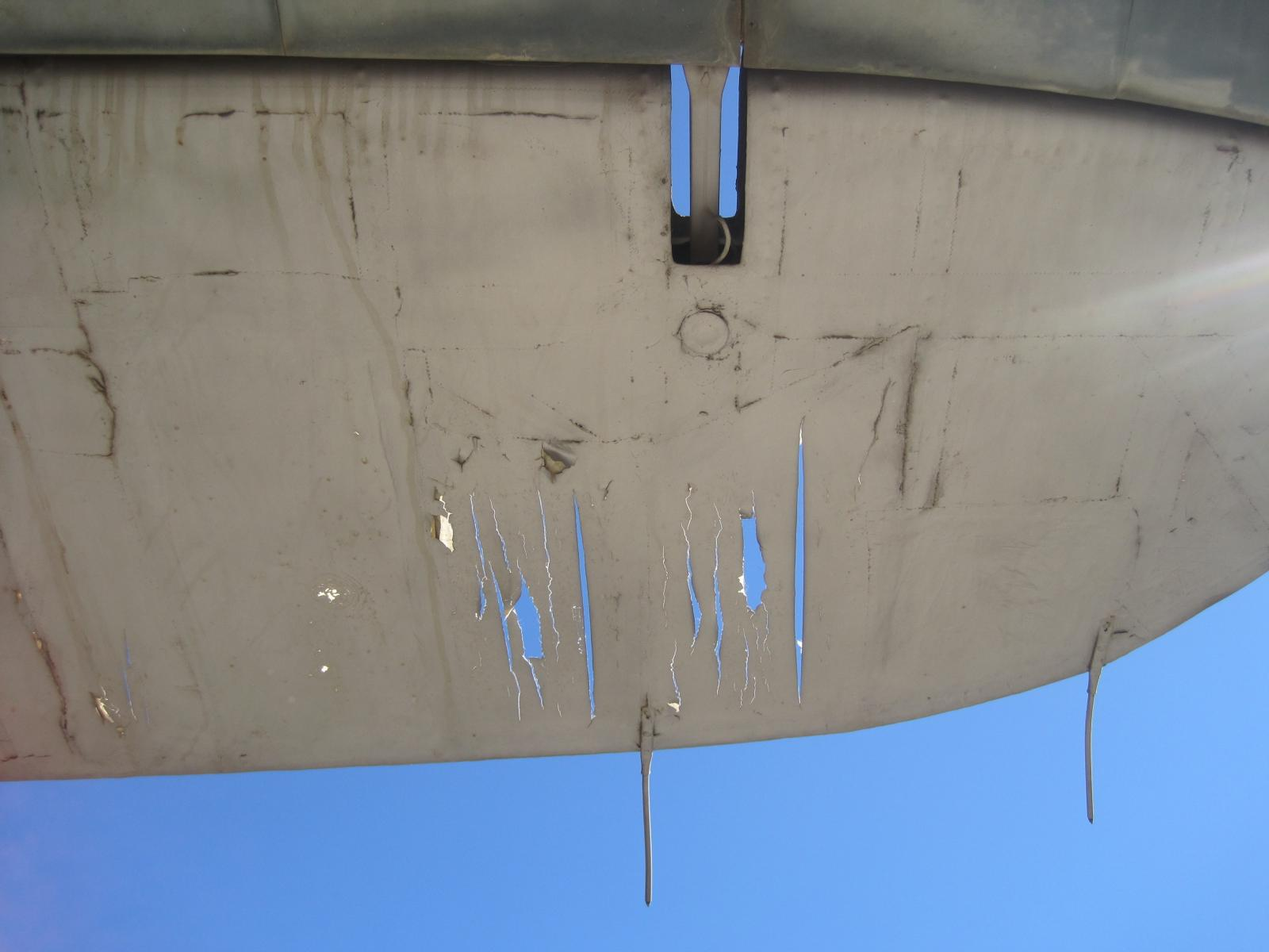Wing_damage: (574, 499, 595, 720), (537, 492, 559, 661), (795, 424, 805, 704), (513, 573, 544, 660), (492, 567, 515, 679), (742, 516, 766, 609), (469, 493, 489, 600), (713, 537, 724, 685), (541, 438, 580, 477), (686, 547, 701, 640), (452, 435, 479, 470), (667, 656, 681, 712), (493, 580, 506, 638), (433, 516, 453, 552), (497, 521, 511, 572), (661, 544, 669, 618), (318, 587, 341, 601), (506, 639, 513, 677), (517, 680, 521, 715), (518, 683, 520, 713), (493, 505, 495, 519)
